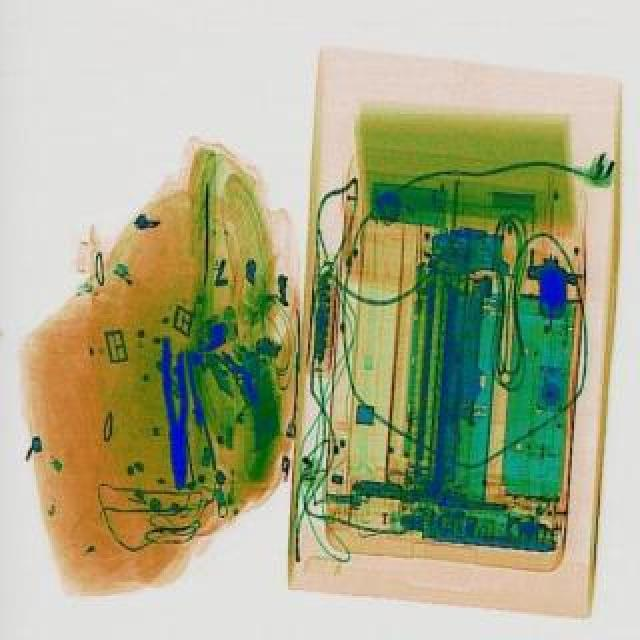wrench: (162, 336, 190, 488)
